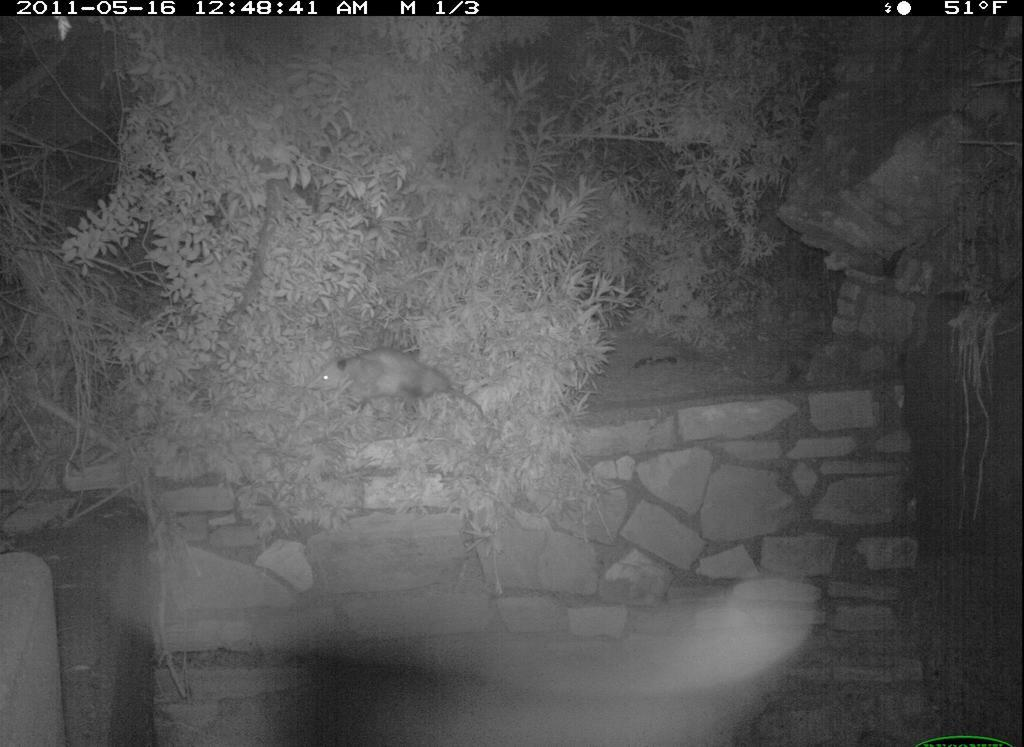opossum: (305, 354, 483, 434)
